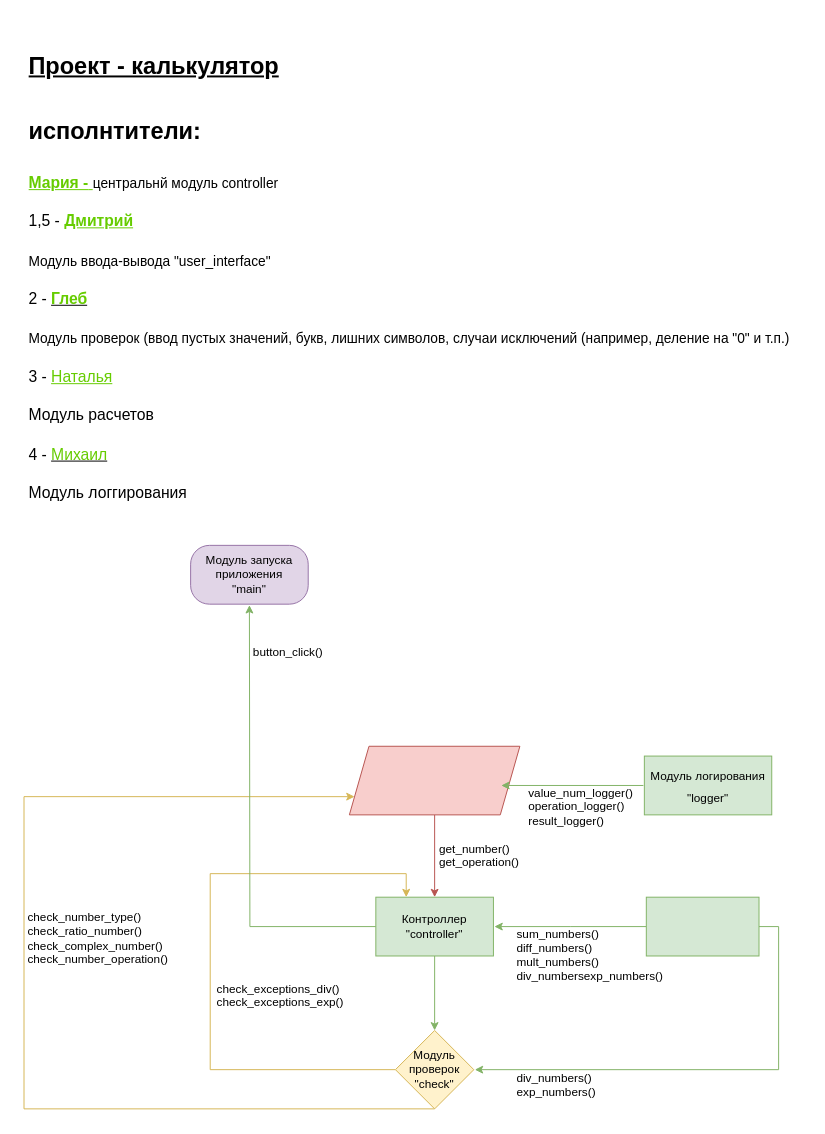
The diagram is 825 pixels wide and 1134 high, and some of its shapes have lost their labels. The shapes that lost their labels are listed below. From the top down, each one's box as (x1, y1, x2, y2) in pixels, then its label:
(348, 745, 520, 815): Модуль ввода-вывода "user_interface"
(645, 896, 759, 956): Модуль расчетов "operations"
